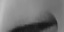LeftEyeFatigue: (6, 10, 60, 32)
